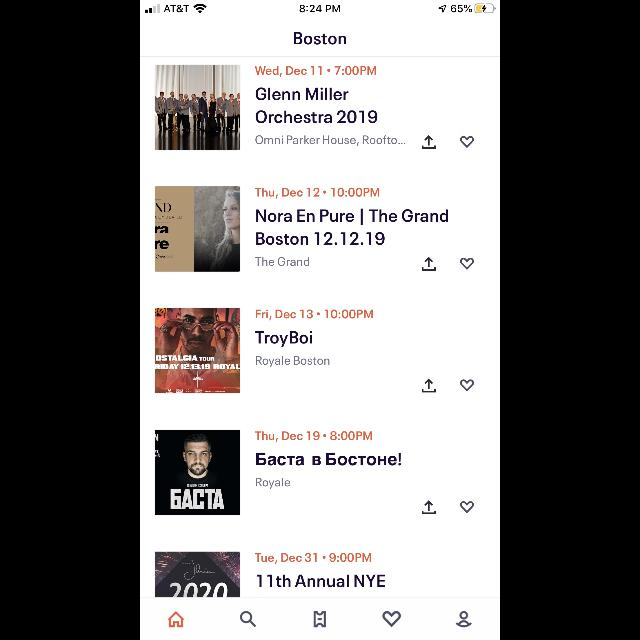icon: (382, 610, 402, 628), (168, 610, 184, 628), (240, 610, 256, 628), (456, 611, 472, 627), (314, 610, 326, 628), (422, 500, 436, 514), (422, 379, 436, 393), (422, 257, 436, 271), (422, 135, 436, 149), (460, 501, 474, 513), (460, 380, 474, 392), (460, 258, 474, 270), (460, 136, 474, 148)
image: (155, 64, 241, 150), (154, 186, 240, 270), (156, 308, 240, 394), (156, 430, 240, 516), (156, 552, 240, 598)
text: (256, 208, 448, 246), (256, 88, 378, 124), (256, 452, 402, 466), (257, 574, 385, 588), (255, 136, 405, 146), (255, 187, 379, 199), (255, 66, 377, 78), (255, 552, 371, 564), (255, 310, 372, 320), (255, 432, 372, 442), (255, 331, 312, 347), (256, 357, 330, 368), (294, 32, 346, 44), (255, 258, 309, 266), (256, 477, 290, 489)
uppertaskbar: (140, 0, 500, 14)
